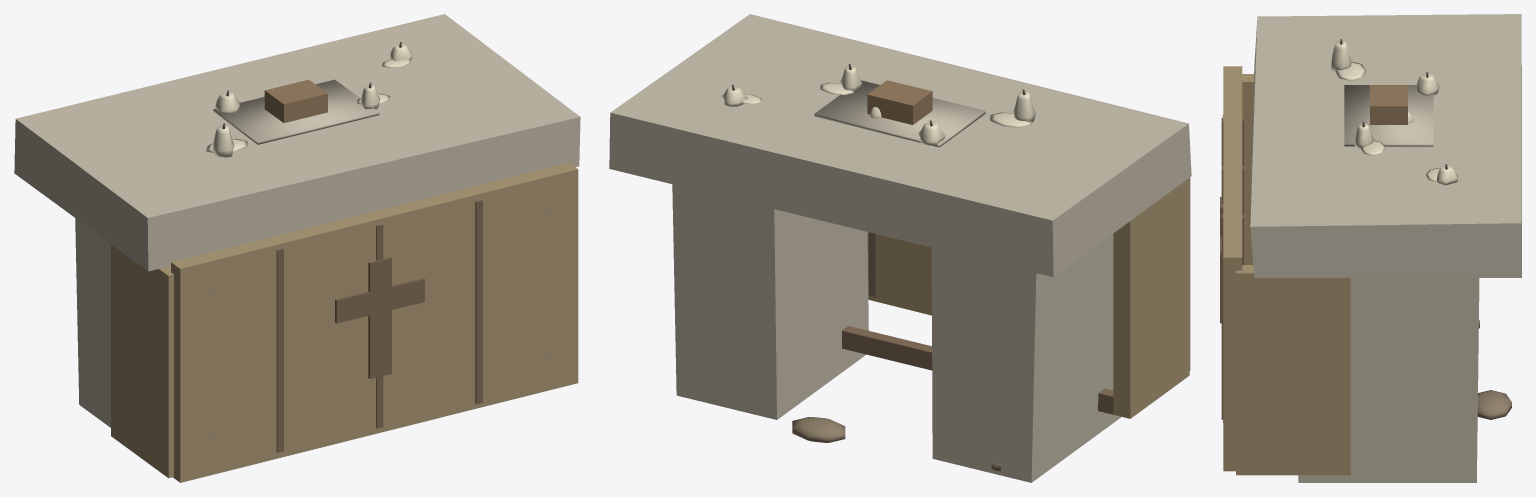
File: false_altar.glb
3 views of the same model, side by side, from view 1: azimuth 30°, elevation 25°; view 2: azimuth 150°, elevation 25°; view 3: azimuth 270°, elevation 25° (orthographic). The views are drawn at different scales.
Parts seen in each view (by area): view 1: Altar_False, Altar_Stone, Altar_RelicStand, Altar_Wax; view 2: Altar_Stone, Altar_False, Altar_RelicStand, Altar_Wax; view 3: Altar_Stone, Altar_False, Altar_RelicStand, Altar_Wax.
Boxes of the visible parts, x1,y1,x2,y2 form: Altar_False: (111,162,578,482); Altar_Stone: (14,14,580,427); Altar_RelicStand: (213,79,379,144); Altar_Wax: (206,42,412,157); Altar_Stone: (609,14,1191,482); Altar_False: (842,177,1190,418); Altar_RelicStand: (814,80,985,147); Altar_Wax: (722,64,1035,145); Altar_Stone: (1250,14,1521,482); Altar_False: (1220,66,1350,475); Altar_RelicStand: (1344,85,1433,146); Altar_Wax: (1330,39,1458,185).
Size of the model in its own units: 1.56 by 1.08 by 0.947.
